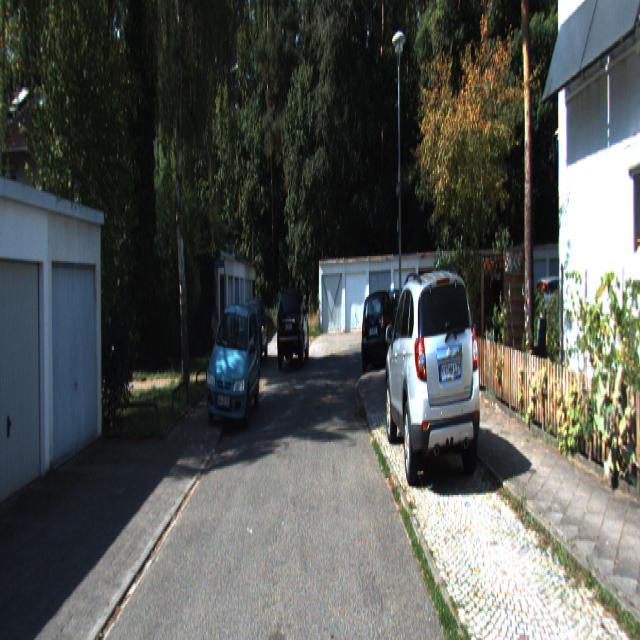Car: (383, 267, 482, 495), (207, 303, 260, 430), (361, 289, 396, 370), (277, 284, 310, 363)
DontCare: (536, 272, 578, 324)
